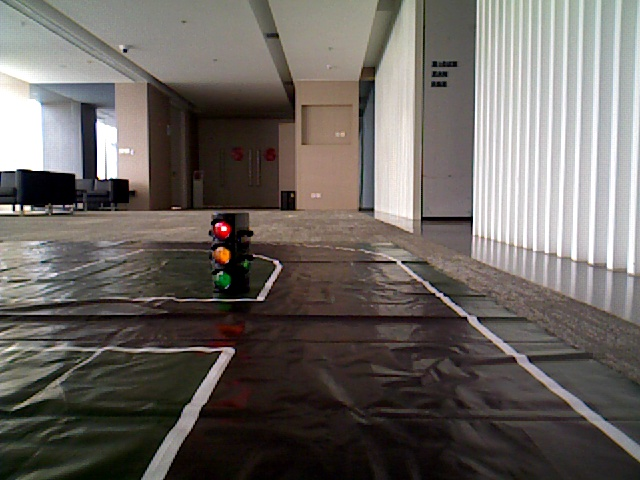red: (210, 215, 238, 288)
